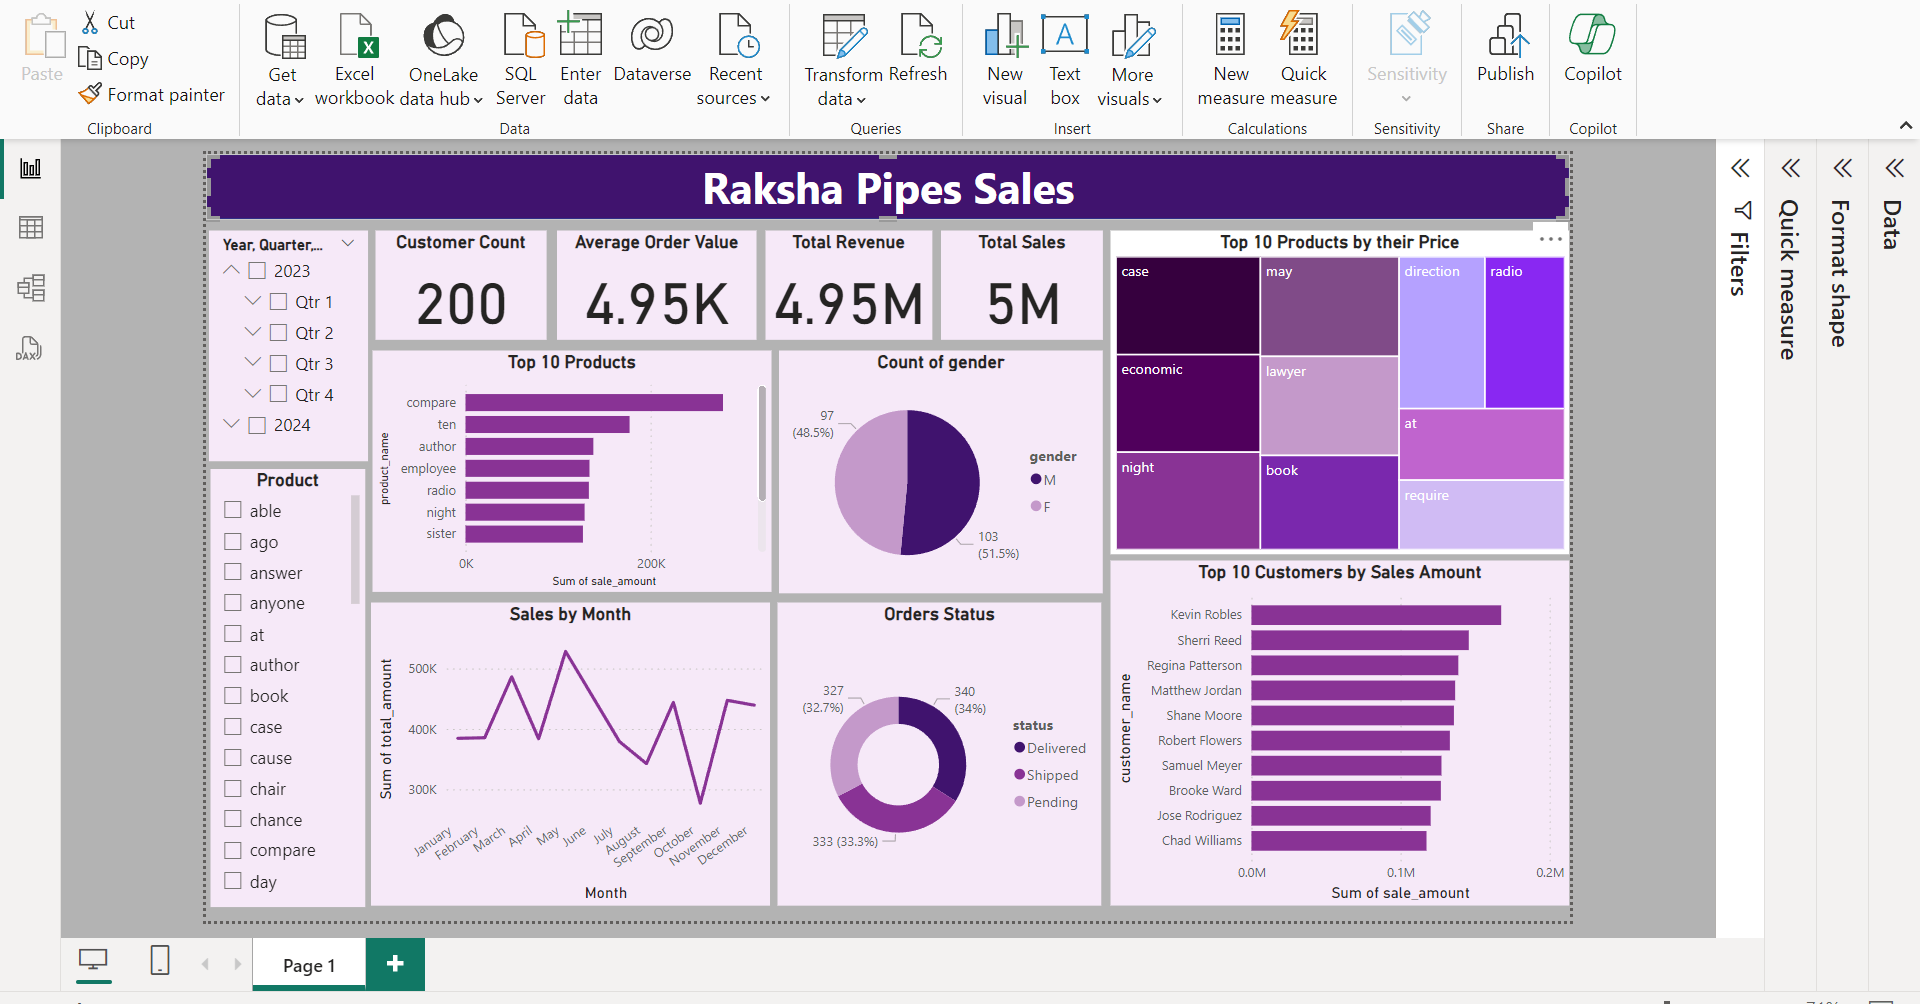

The dashboard page shown, as its layout file describes it:
{"tool":"powerbi","page":{"name":"Page 1","canvas":[1280,720],"ordinal":0},"visuals":[{"type":"pieChart","title":"Count of gender","fields":{"Category":["raksha_pipes customers.gender"],"Y":["raksha_pipes customers.gender"]},"box":[538,184.5,304.2,228.2],"z":0},{"type":"donutChart","title":"Orders Status","fields":{"Category":["raksha_pipes orders.status"],"Y":["raksha_pipes orders.status"]},"box":[536.6,421.1,304.2,284.5],"z":1000},{"type":"barChart","title":"Top 10 Products","fields":{"Category":["raksha_pipes products.product_name"],"Y":["raksha_pipes sales.sale_amount"]},"box":[156.3,184.5,374.6,226.8],"z":2000},{"type":"lineChart","title":"Sales by Month","fields":{"Category":["raksha_pipes orders.order_date.Variation.Date Hierarchy.Month"],"Y":["raksha_pipes orders.total_amount"]},"box":[154.9,421.1,374.6,284.5],"z":3000},{"type":"card","title":"Total Revenue","fields":{"Values":["raksha_pipes orders.total_amount"]},"box":[525.4,71.8,156.3,102.8],"z":4000},{"type":"card","title":"Total Sales","fields":{"Values":["raksha_pipes sales.sale_amount"]},"box":[690.1,71.8,152.1,102.8],"z":5000},{"type":"card","title":"Average Order Value","fields":{"Values":["raksha_pipes orders.total_amount"]},"box":[329.6,71.8,187.3,102.8],"z":6000},{"type":"card","title":"Customer Count","fields":{"Values":["raksha_pipes customers.customer_id"]},"box":[159.2,71.8,160.6,102.8],"z":7000},{"type":"shape","box":[0,0,1280.7,61.7],"z":8000},{"type":"barChart","title":"Top 10 Customers by Sales Amount","fields":{"Category":["raksha_pipes customers.customer_name"],"Y":["raksha_pipes sales.sale_amount"]},"box":[849,381.7,431,323.9],"z":9000},{"type":"treemap","title":"Top 10 Products by their Price","fields":{"Group":["raksha_pipes products.product_name"],"Values":["raksha_pipes products.price"]},"box":[849,71.8,431,304.2],"z":10000},{"type":"slicer","fields":{"Values":["raksha_pipes orders.order_date.Variation.Date Hierarchy.Year","raksha_pipes orders.order_date.Variation.Date Hierarchy.Quarter","raksha_pipes orders.order_date.Variation.Date Hierarchy.Month","raksha_pipes orders.order_date.Variation.Date Hierarchy.Day"]},"box":[2.8,71.8,149.3,216.9],"z":10001},{"type":"slicer","title":"Product","fields":{"Values":["raksha_pipes products.product_name"]},"box":[4.2,295.8,145.1,411.3],"z":10002}]}

Visuals, with their boxes on the page's 1280x720 design canvas (x1, y1, x2, y2). These are canvas units, not pixel positions in the 1920x1004 screenshot, which may show the page scaled, cropped or inside an application window:
"Count of gender" pieChart: [left=538, top=184, right=842, bottom=413]
"Orders Status" donutChart: [left=537, top=421, right=841, bottom=706]
"Top 10 Products" barChart: [left=156, top=184, right=531, bottom=411]
"Sales by Month" lineChart: [left=155, top=421, right=530, bottom=706]
"Total Revenue" card: [left=525, top=72, right=682, bottom=175]
"Total Sales" card: [left=690, top=72, right=842, bottom=175]
"Average Order Value" card: [left=330, top=72, right=517, bottom=175]
"Customer Count" card: [left=159, top=72, right=320, bottom=175]
shape: [left=0, top=0, right=1281, bottom=62]
"Top 10 Customers by Sales Amount" barChart: [left=849, top=382, right=1280, bottom=706]
"Top 10 Products by their Price" treemap: [left=849, top=72, right=1280, bottom=376]
slicer - raksha_pipes orders.order_date.Variation.Date Hierarchy.Year x raksha_pipes orders.order_date.Variation.Date Hierarchy.Quarter: [left=3, top=72, right=152, bottom=289]
"Product" slicer: [left=4, top=296, right=149, bottom=707]
